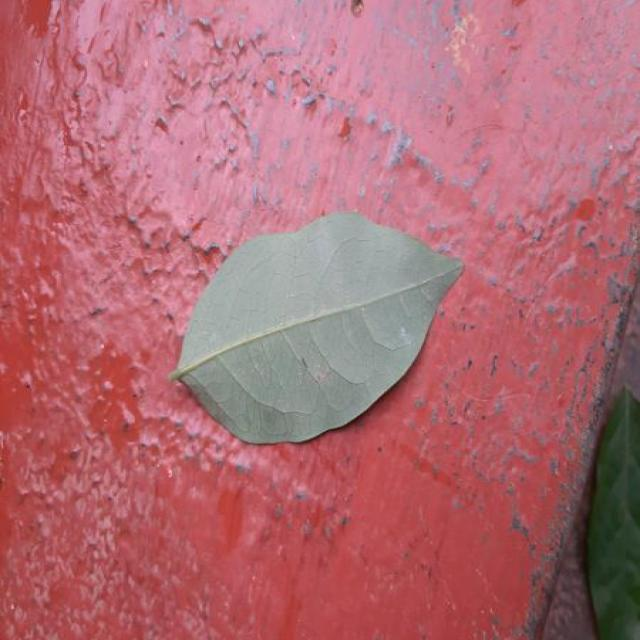amla: (170, 212, 462, 443)
